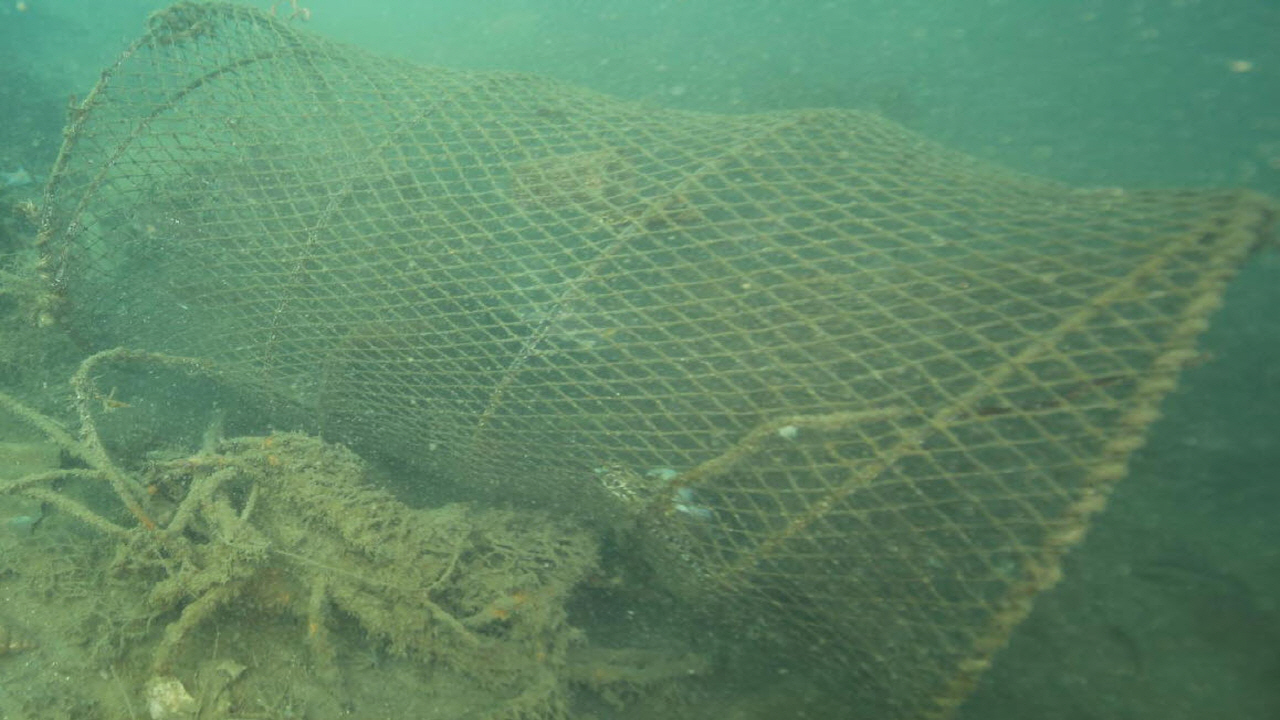spring fish trap: (31, 0, 1280, 720)
